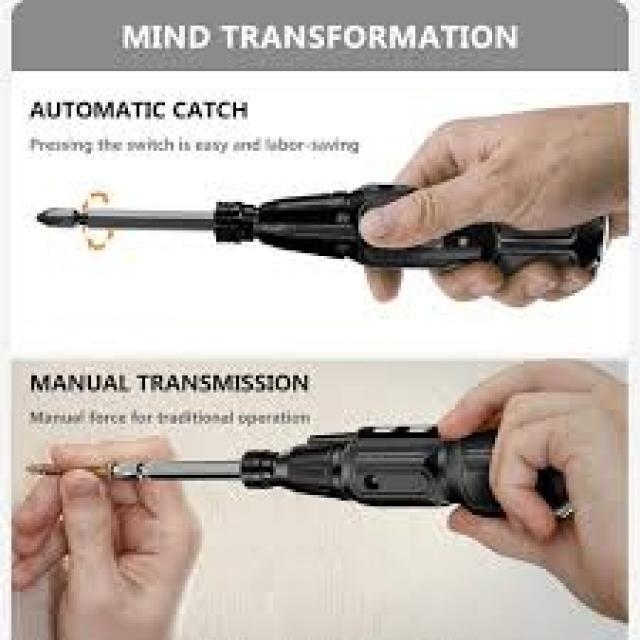screwdriver: (9, 164, 618, 298), (102, 414, 578, 528)
